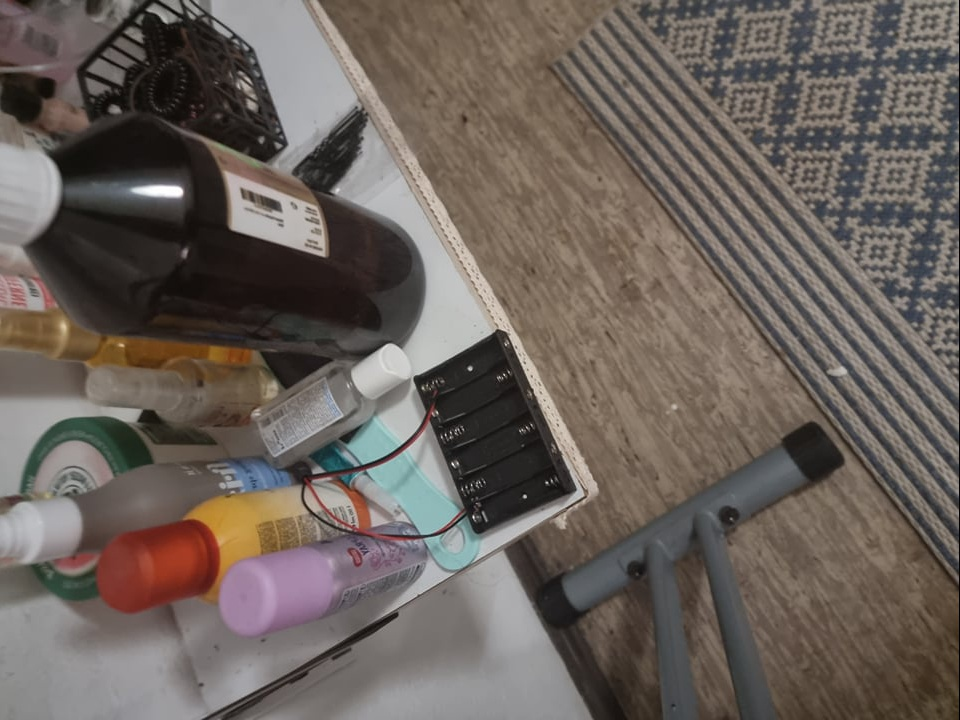BATTERY BOX: (408, 334, 579, 537)
